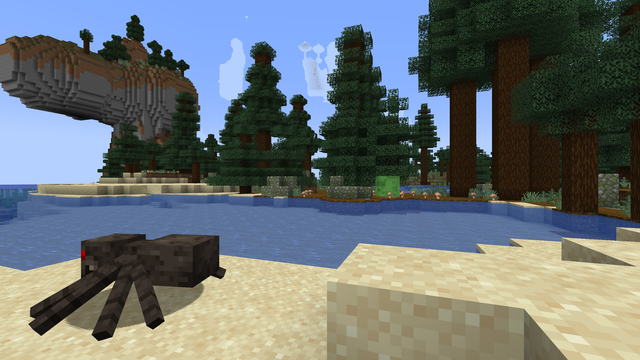araignees: (46, 221, 220, 336)
slimes: (375, 175, 398, 196)
